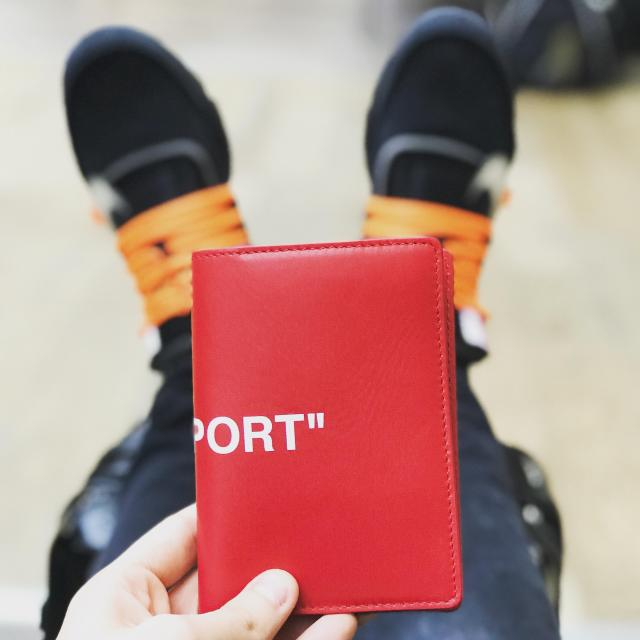shoe: (8, 15, 272, 343), (354, 30, 591, 342)
